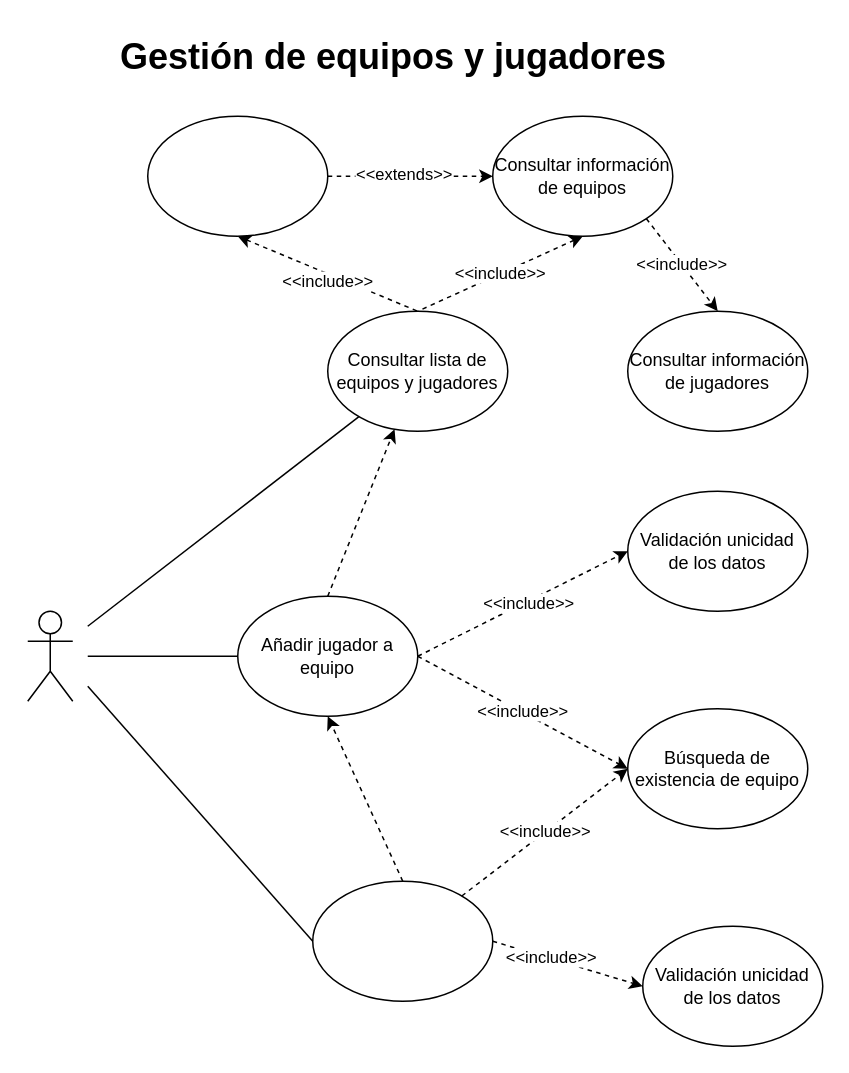
Some shapes in this 849 by 1073 pixel diagram are drawn without their labels. The shapes that lost their labels are listed below. From the top down, each one's centre as x and y in pixels, then its label:
At (x=237, y=175): "Consultar información de clubes".
At (x=49, y=655): "admin".
At (x=402, y=940): "Registrar equipo".
